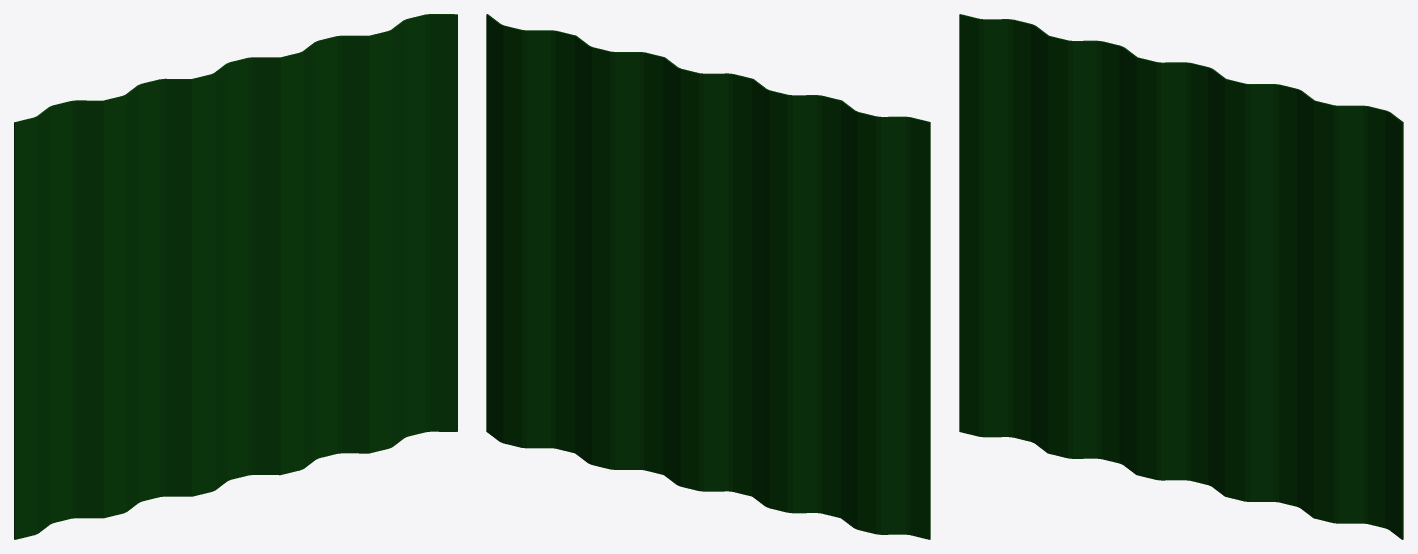
Rendered from fence.fbx.
3 views of the same model, side by side, from view 1: azimuth 30°, elevation 25°; view 2: azimuth 150°, elevation 25°; view 3: azimuth 330°, elevation 25° (orthographic).
Visible parts, largest first — view 1: Plane; view 2: Plane; view 3: Plane.
Boxes of the visible parts, x1,y1,x2,y2 form: Plane: (14,14,457,539); Plane: (486,14,930,539); Plane: (959,14,1403,539).
Size of the model in its own units: 200 by 180 by 6.69.
